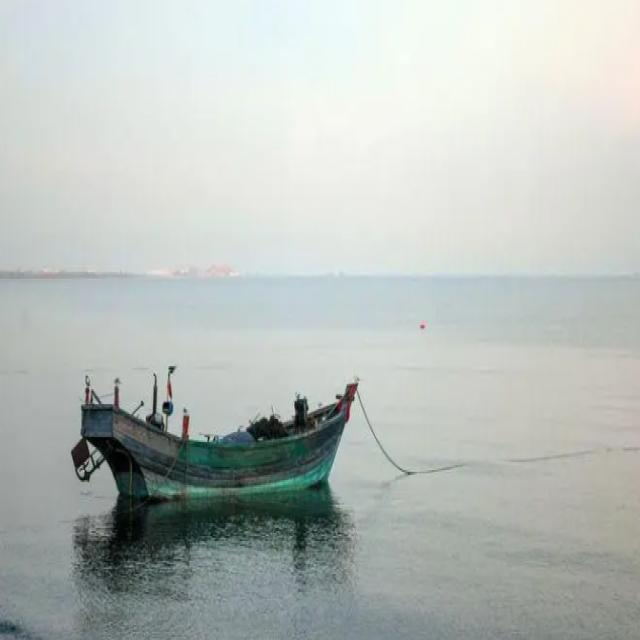fishing boat: (67, 354, 360, 505)
